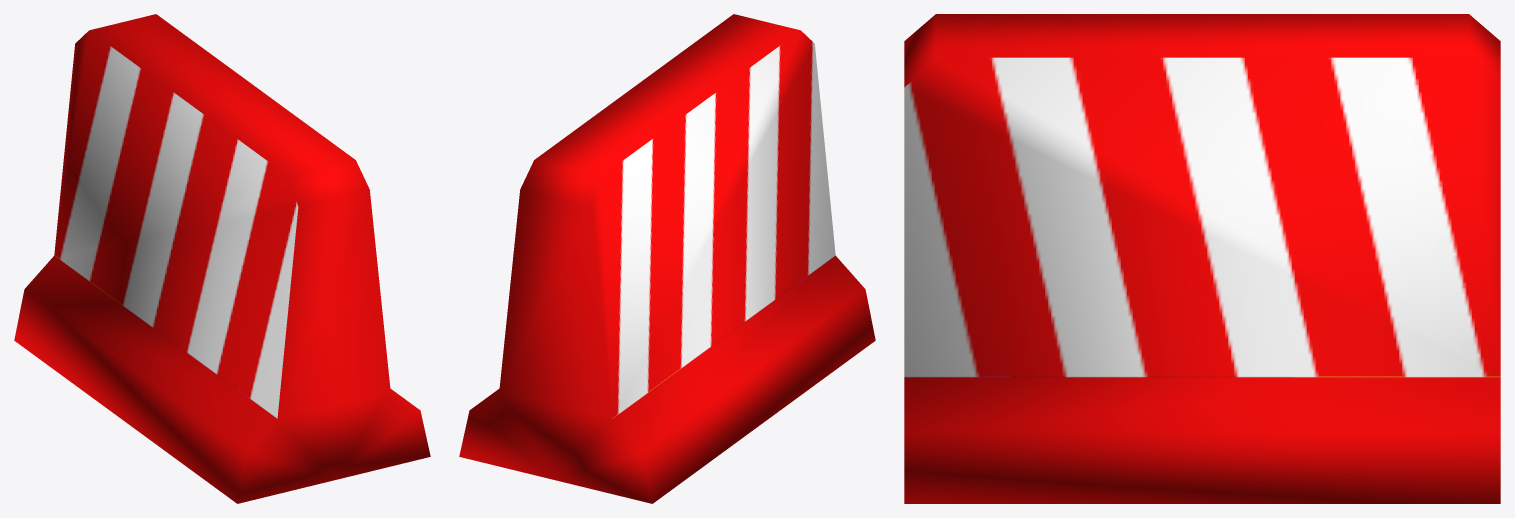
File: fence2.fbx
3 views of the same model, side by side, from view 1: azimuth 30°, elevation 25°; view 2: azimuth 150°, elevation 25°; view 3: azimuth 270°, elevation 25° (orthographic). The views are drawn at different scales.
Parts seen in each view (by area): view 1: Barrier_traffic_6; view 2: Barrier_traffic_6; view 3: Barrier_traffic_6.
Part boxes in pixels (x1,y1,x2,y2): Barrier_traffic_6: (14,14,430,503); Barrier_traffic_6: (459,14,875,503); Barrier_traffic_6: (904,14,1500,503).
Bounding box in the file's own units: 100 × 150 × 200.
1 material, 1 textured.
